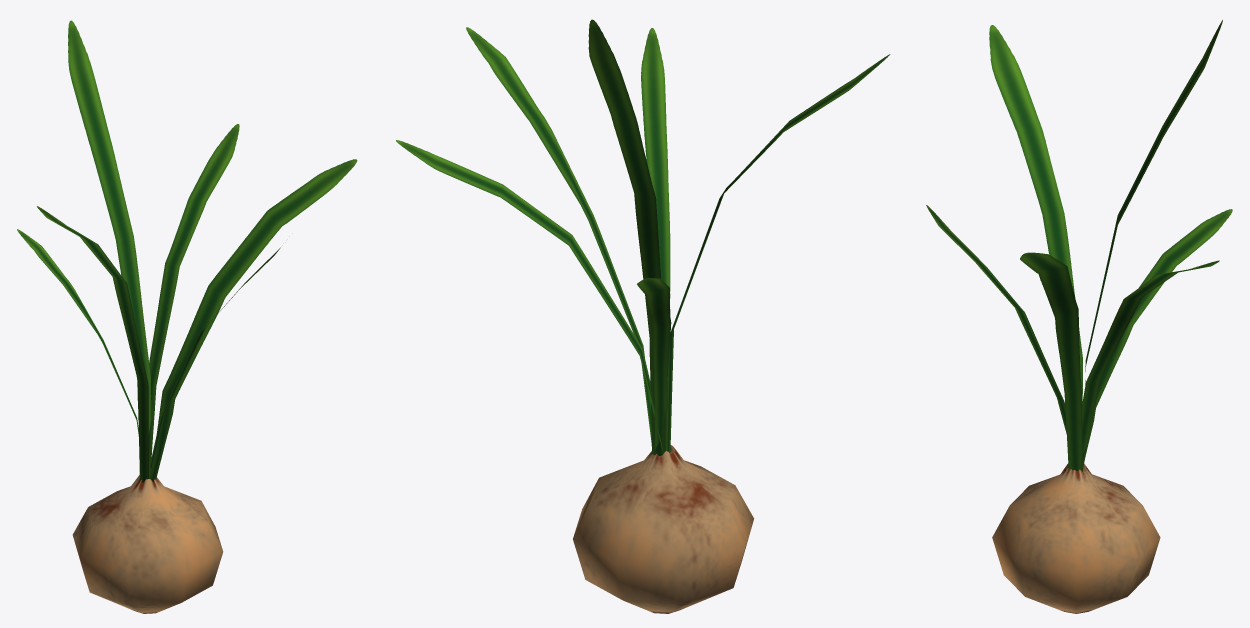
The model's file is onion.glb.
3 renders of one model, left to right at view 1: azimuth 30°, elevation 25°; view 2: azimuth 150°, elevation 25°; view 3: azimuth 270°, elevation 25°, orthographic. The views are drawn at different scales.
Parts seen in each view (by area): view 1: Onion_single_Plants_0; view 2: Onion_single_Plants_0; view 3: Onion_single_Plants_0.
Boxes of the visible parts, x1,y1,x2,y2 form: Onion_single_Plants_0: (17,20,357,613); Onion_single_Plants_0: (396,19,890,613); Onion_single_Plants_0: (926,20,1232,613).
Size of the model in its own units: 1.14 by 1.74 by 0.8338.
1 material, 1 textured.
